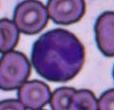E: (31, 28, 84, 82)
